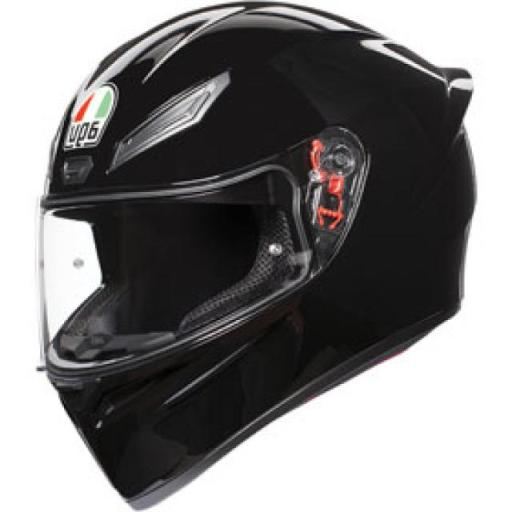Helmet: (40, 3, 474, 507)
